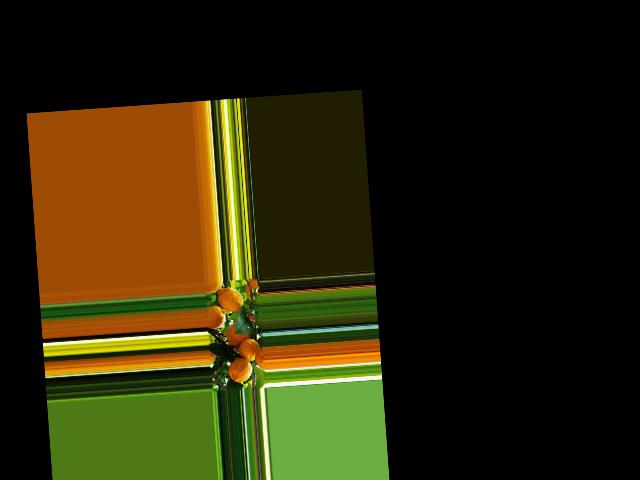lemon: (229, 355, 255, 385)
